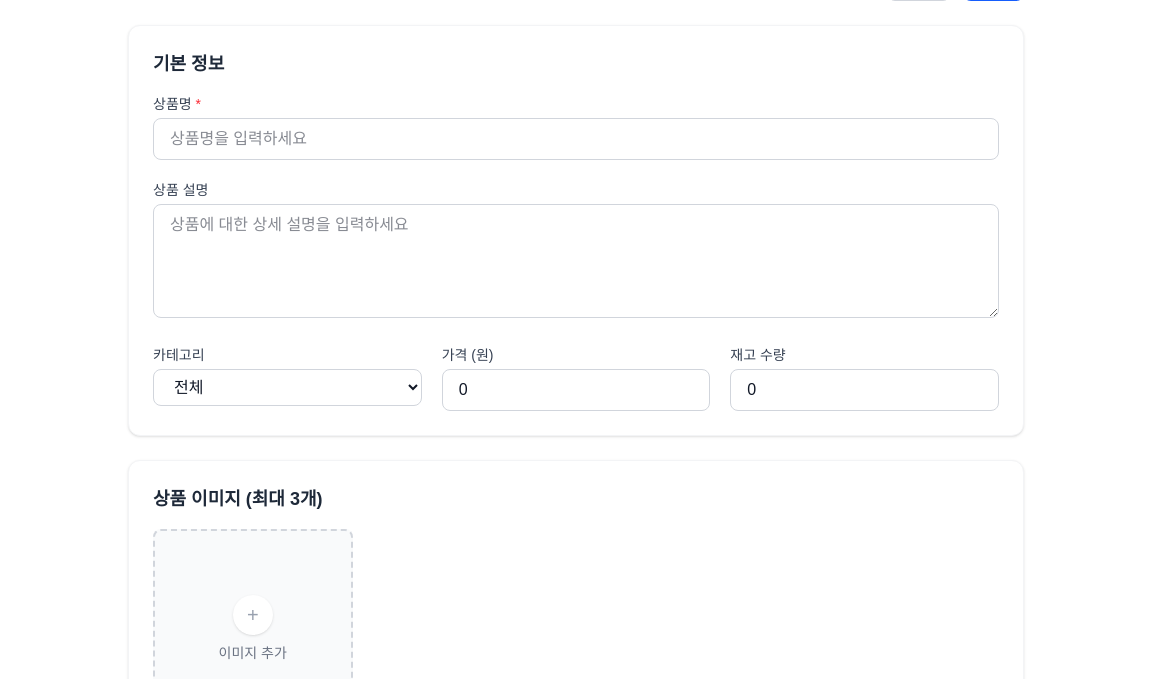
Test case: ProductCreateForm › AI 설명 생성 성공 시 텍스트 영역에 채워진다
Type "테스트 상품" into the field labelled "상품명 *". click: {"x": 576, "y": 139}
box: 153,118 -> 999,160
(page scrolled)
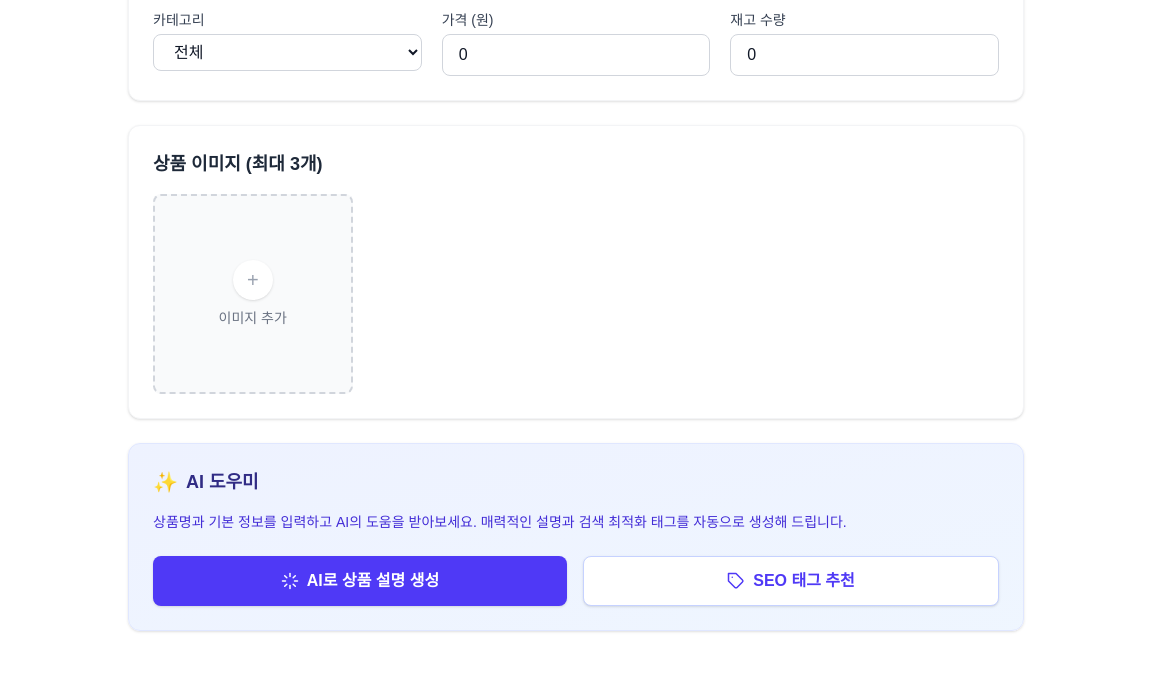
Click the button "AI로 상품 설명 생성". click: {"x": 360, "y": 580}
box: 153,556 -> 567,606
(page scrolled)
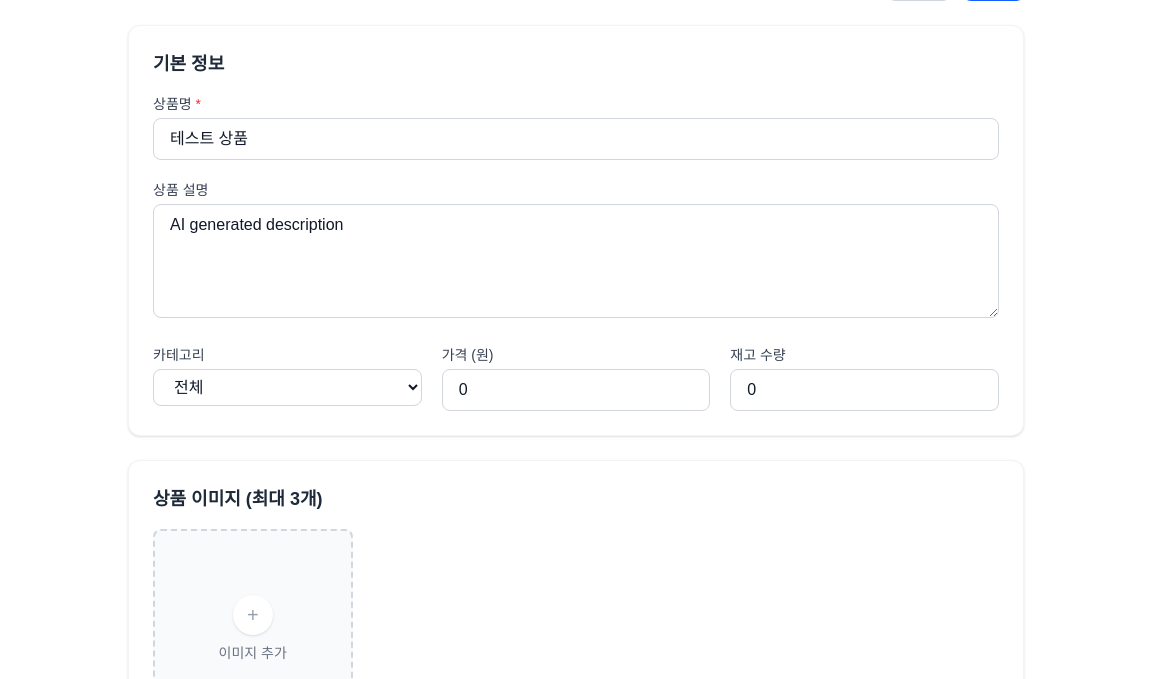
Expected: the text box labelled "상품 설명" holds "AI generated description", 153,204 -> 999,318
